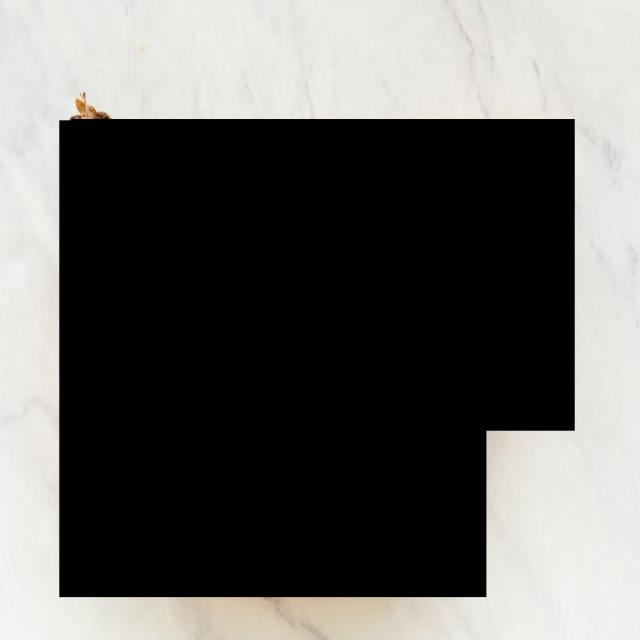Banana: (59, 120, 486, 597), (72, 119, 575, 431)
